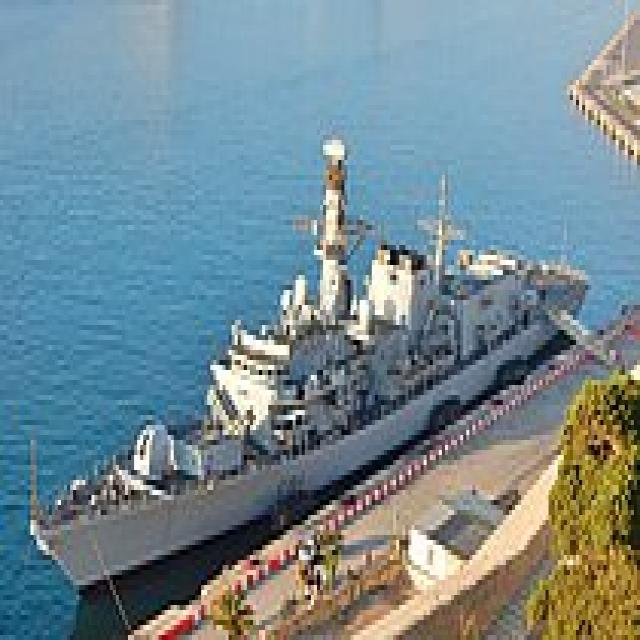Warship: (21, 130, 588, 590)
